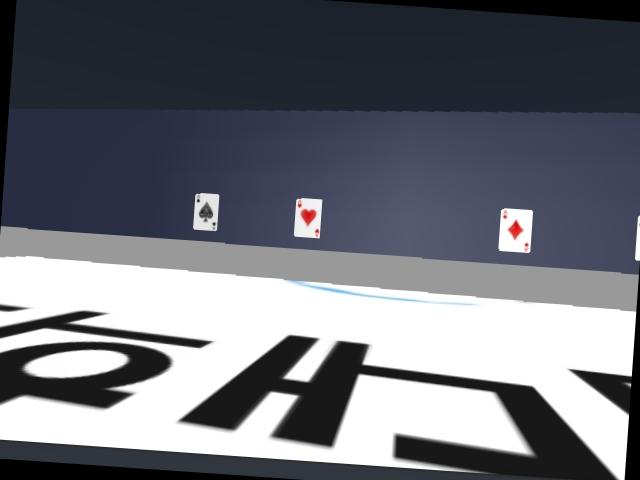diamond: (498, 208, 532, 252)
heart: (294, 198, 321, 237)
spade: (193, 193, 218, 230)
